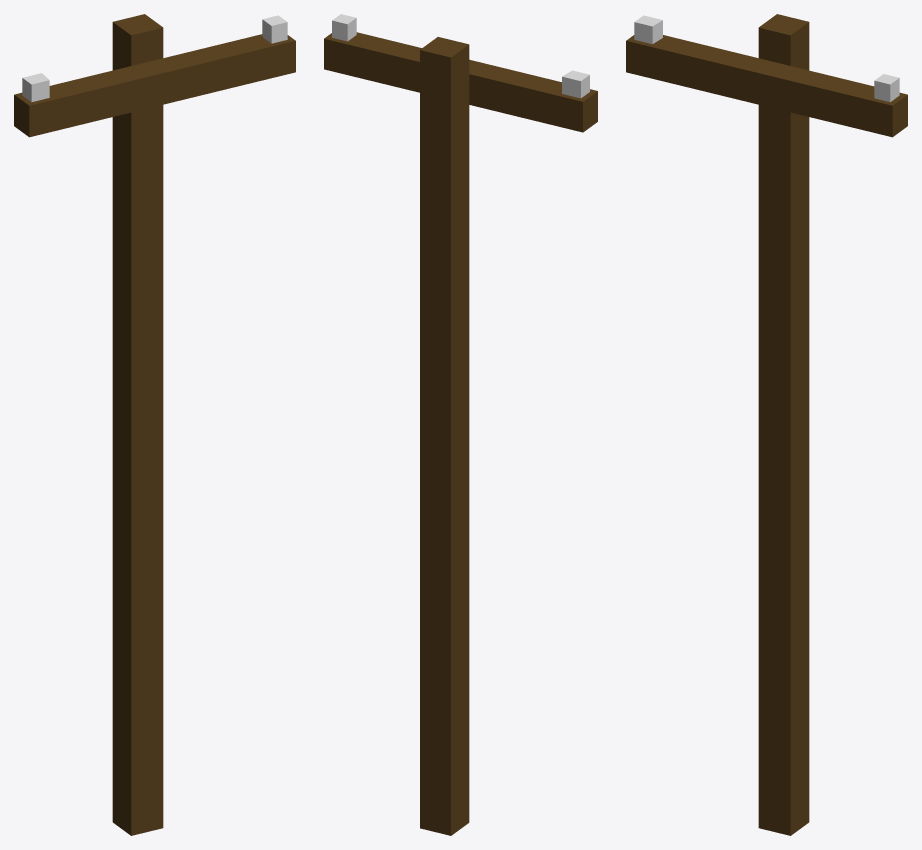
File: Power Pole.fbx
The picture shows the model from 3 angles, left to right: view 1: azimuth 30°, elevation 25°; view 2: azimuth 150°, elevation 25°; view 3: azimuth 330°, elevation 25°; orthographic projection. The views are drawn at different scales.
Parts seen in each view (by area): view 1: Cube; view 2: Cube; view 3: Cube.
Part boxes in pixels (x1,y1,x2,y2): Cube: [14, 14, 295, 835]; Cube: [324, 14, 597, 835]; Cube: [626, 14, 907, 835].
Bounding box in the file's own units: 3.43 × 9.86 × 0.7551.
